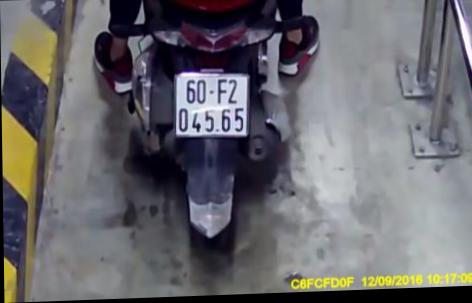LP: (171, 69, 253, 144)
